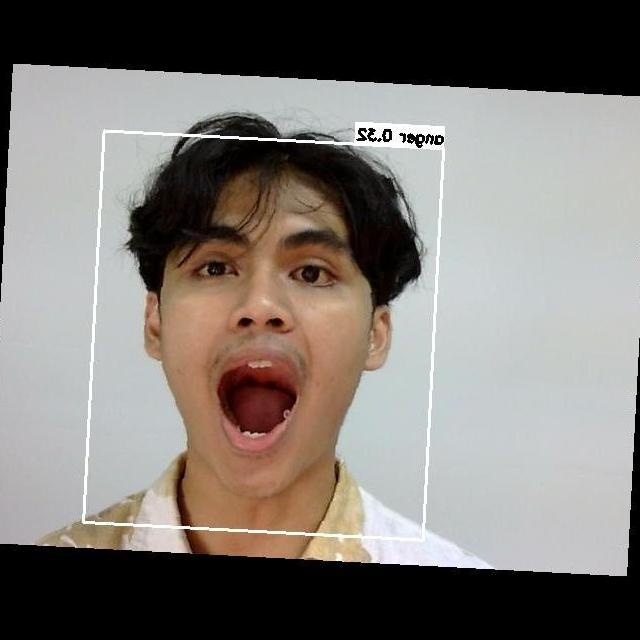Surprised: (147, 201, 372, 465)
